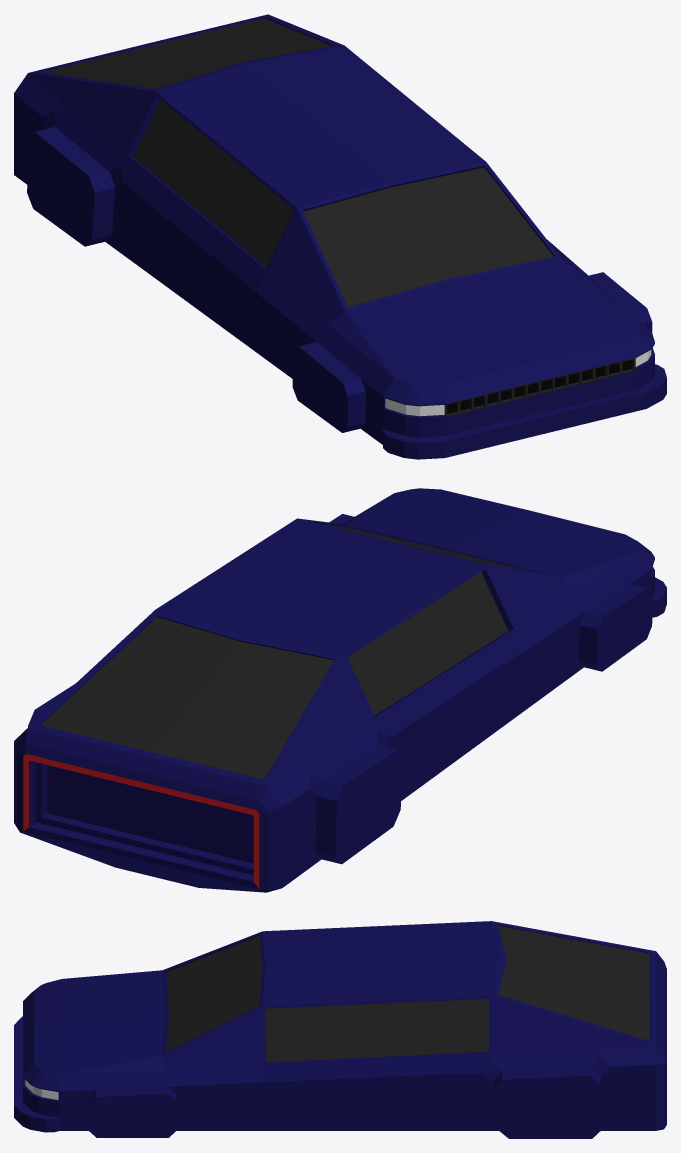
The model's file is playercar.fbx.
The picture shows the model from 3 angles, top to bottom: view 1: azimuth 30°, elevation 25°; view 2: azimuth 150°, elevation 25°; view 3: azimuth 270°, elevation 25°; orthographic projection. The views are drawn at different scales.
Visible parts, largest first — view 1: playercar; view 2: playercar; view 3: playercar.
Boxes of the visible parts, x1,y1,x2,y2 form: playercar: (14,14,666,459); playercar: (14,488,666,892); playercar: (14,921,666,1138).
Bounding box in the file's own units: 447 × 246 × 1013.
